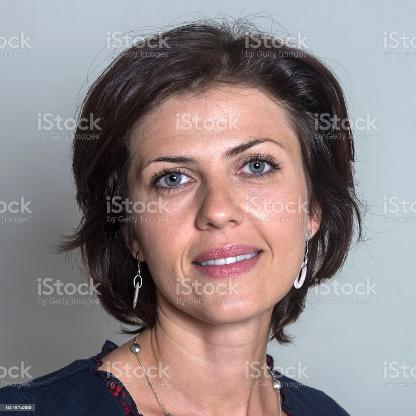Female: (127, 81, 324, 324)
